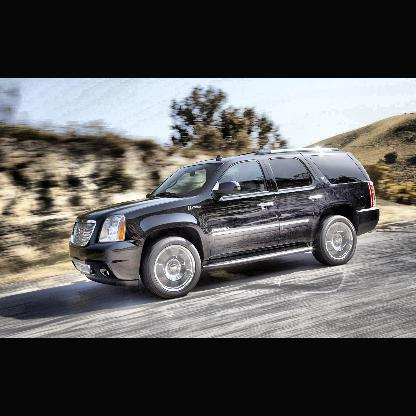GMC Yukon Hybrid SUV 2012: (69, 146, 383, 297)
